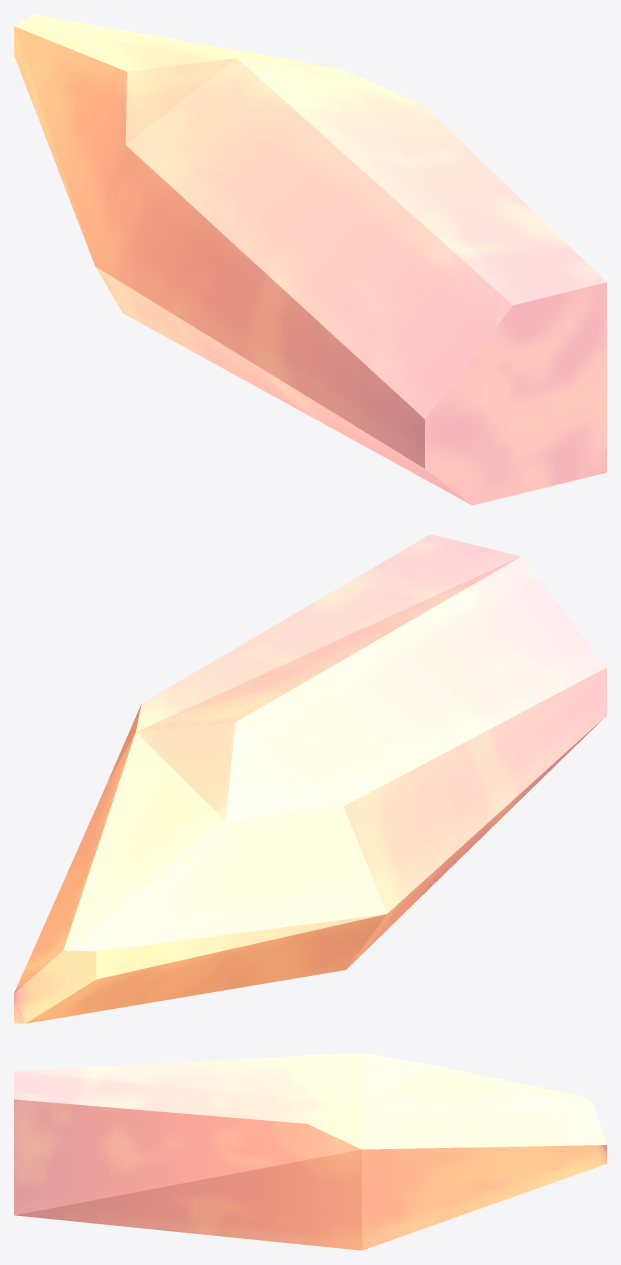
Rendered from SM_DEMOCrystal1_Red.fbx.
3 views of the same model, one above another, from view 1: azimuth 30°, elevation 25°; view 2: azimuth 150°, elevation 25°; view 3: azimuth 270°, elevation 25° (orthographic). The views are drawn at different scales.
Parts seen in each view (by area): view 1: Crystal1_Red; view 2: Crystal1_Red; view 3: Crystal1_Red.
Boxes of the visible parts, left/top/right/bottom form: Crystal1_Red: left=14, top=14, right=606, bottom=505; Crystal1_Red: left=14, top=534, right=606, bottom=1023; Crystal1_Red: left=14, top=1052, right=606, bottom=1250.
Size of the model in its own units: 102 by 97.66 by 296.
